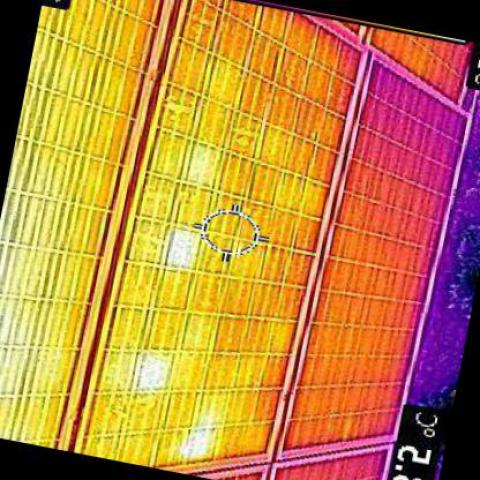fault: (171, 224, 199, 271), (144, 352, 173, 388), (186, 420, 212, 456)
